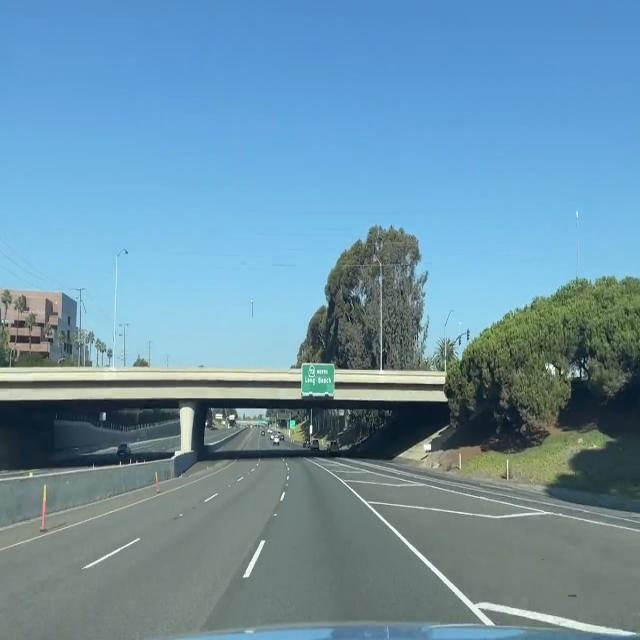street-signs: (302, 362, 336, 395), (290, 418, 296, 429)
